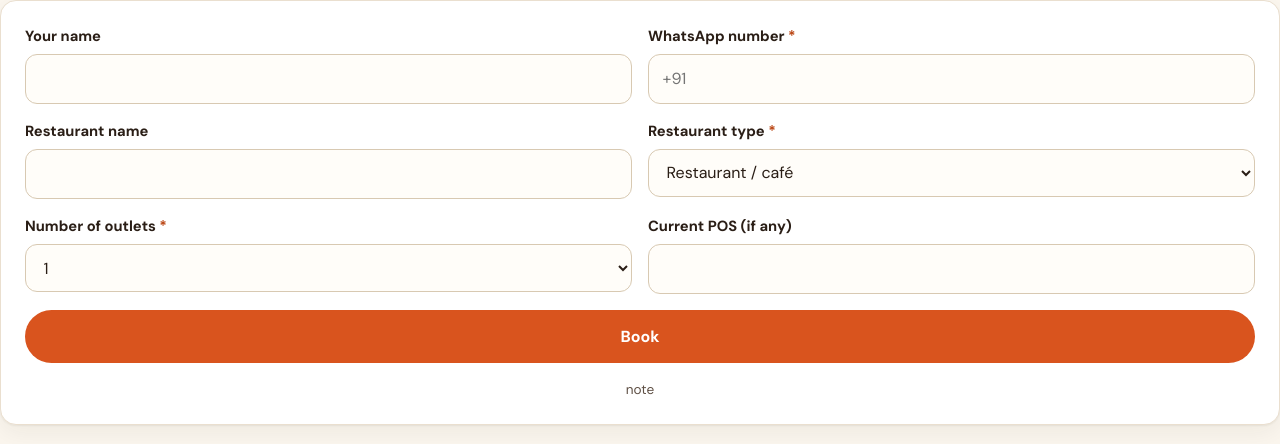
Test: <LeadForm variant="demo"> › submits the payload and shows the confirmation
Step 1. Type "+91 98765 43210" into the field labelled "WhatsApp number *" → (952, 79), box [648,54,1255,104]
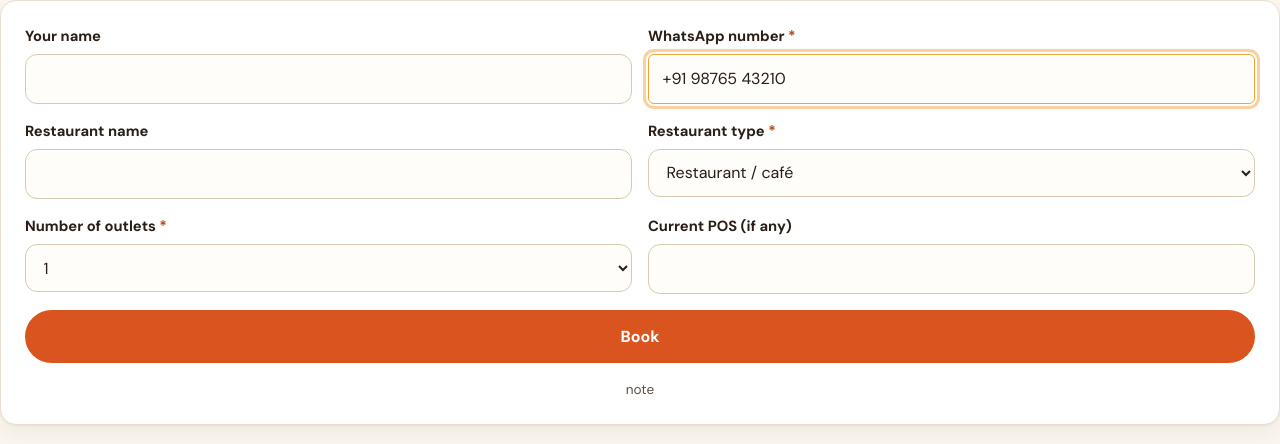
Step 2. Type "Spice Route" into the field labelled "Restaurant name" → (328, 174), box [25,149,632,199]
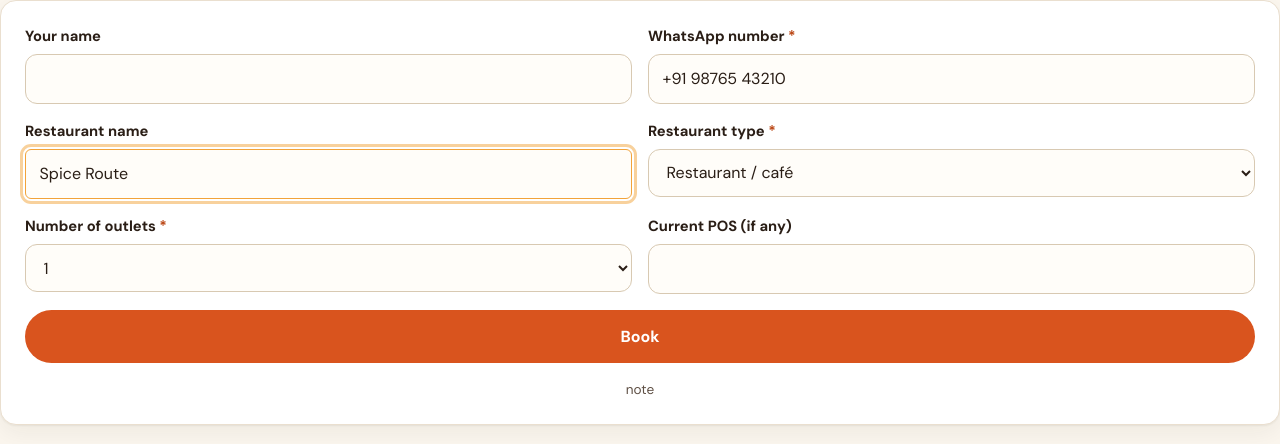
Step 3. Click the button "Book" → click(640, 336), box [25,310,1255,362]
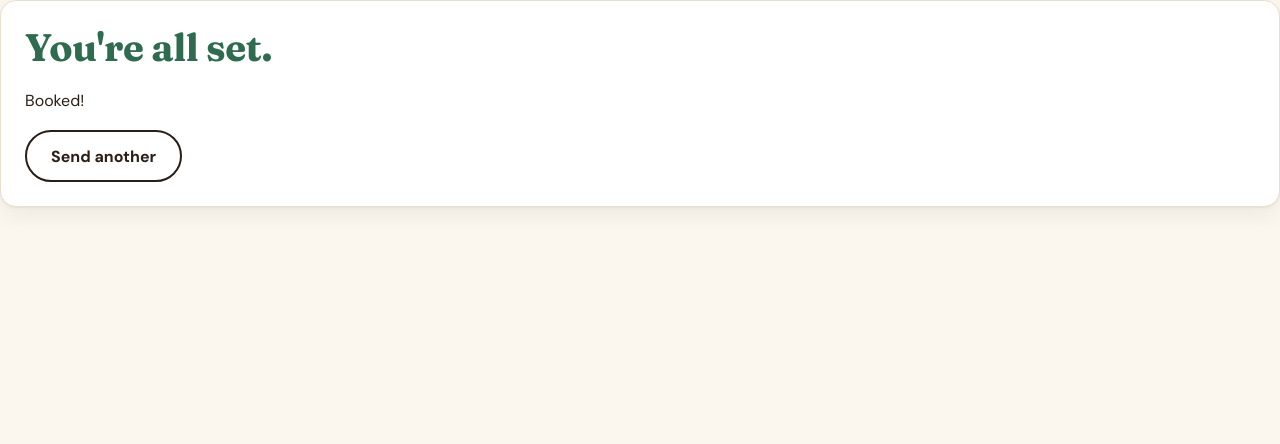
Now the text "Booked!" is shown, box [25,90,84,111]
